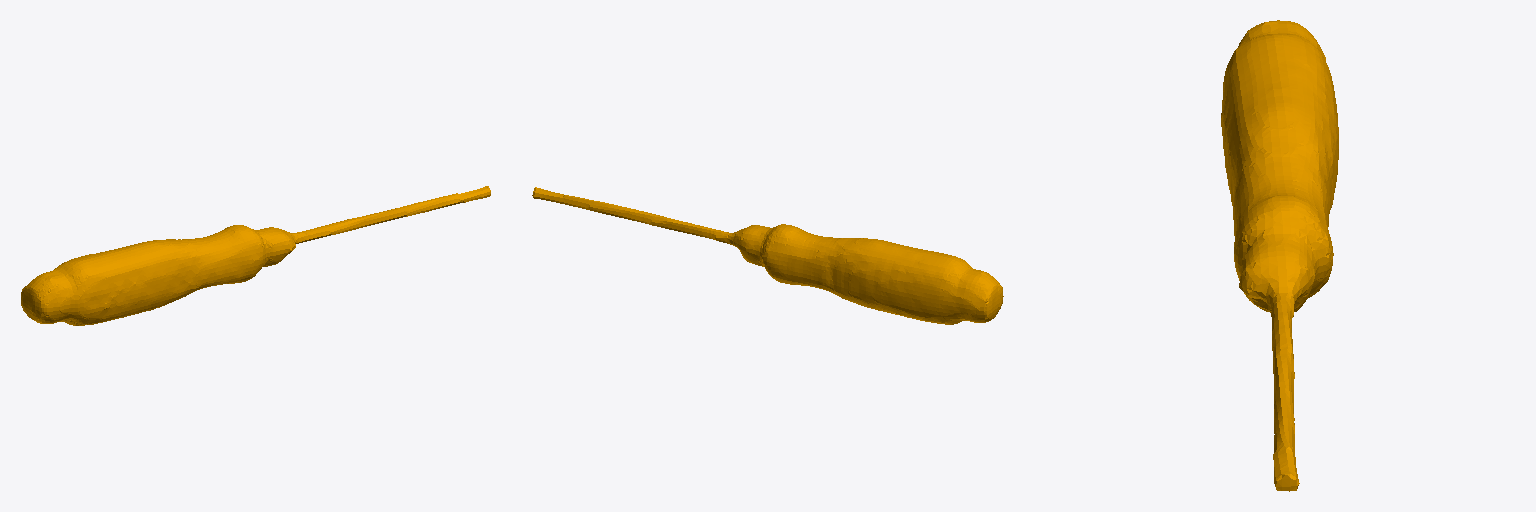
URDF robot description (model.urdf):
<?xml version="1.0" ?>
        <robot name="model.urdf">
        <link name="baseLink">
            <contact>
                <lateral_friction value="0.8"/>
                <rolling_friction value="0.001"/>
                <contact_cfm value="0.0"/>
                <contact_erp value="1.0"/>
            </contact>
            <inertial>
                <origin xyz="0.04 0.0 0.0" rpy="0 0 0"/>
                <mass value="0.101"/>
                <inertia ixx="0.001" ixy="0" ixz="0" iyy="0.001" iyz="0" izz="0.001"/>
            </inertial>
            <visual>
            <geometry>
                <mesh filename="modified_screwdriver.obj" scale="1 1 1"/>
            </geometry>
            <!-- The following material makes the object white in Isaac Gym, so we comment it out. -->
            <!-- <material name="white"> <color rgba="1. 1. 1. 1."/> </material> -->
            </visual>
            <collision>
            <geometry>
                <mesh filename="modified_screwdriver.obj" scale="1 1 1"/>
            </geometry>
            </collision>
        </link>
        </robot>

--- Facts derived from the render (not from the file) ---
The picture shows the robot from 3 angles, left to right: view 1: azimuth 30°, elevation 25°; view 2: azimuth 150°, elevation 25°; view 3: azimuth 270°, elevation 25°; orthographic projection.
Robot: model.urdf — 1 links, 0 joints (none); root link baseLink; default pose: every joint at zero.
Links seen in each view (by area): view 1: baseLink; view 2: baseLink; view 3: baseLink.
Link boxes in pixels (bbox=[...]): baseLink: bbox=[21, 186, 490, 325]; baseLink: bbox=[532, 187, 1003, 324]; baseLink: bbox=[1221, 20, 1338, 491].
Bounding box of the posed robot: 0.2604 × 0.0301 × 0.0339 m (x, y, z).
Meshes: 1 distinct files referenced, 1 mesh visuals loaded (1 OBJ).
